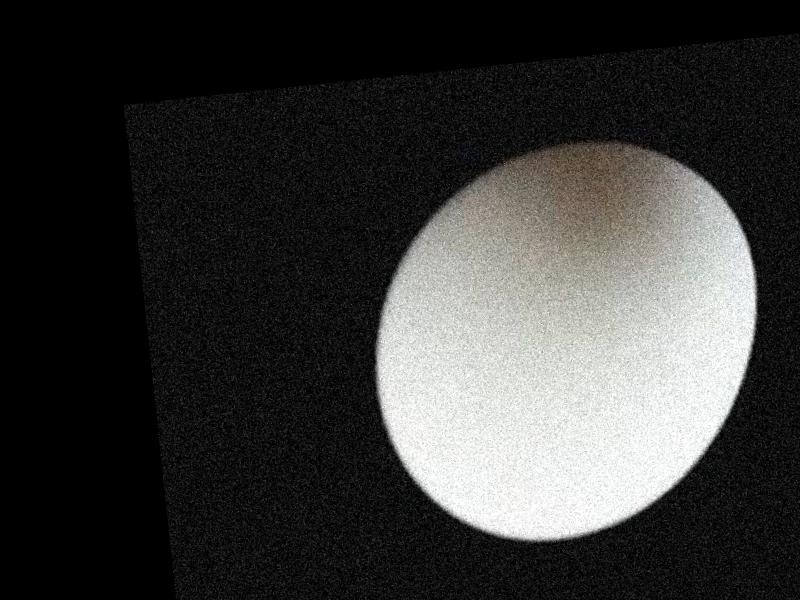Eggs: (356, 131, 781, 556)
